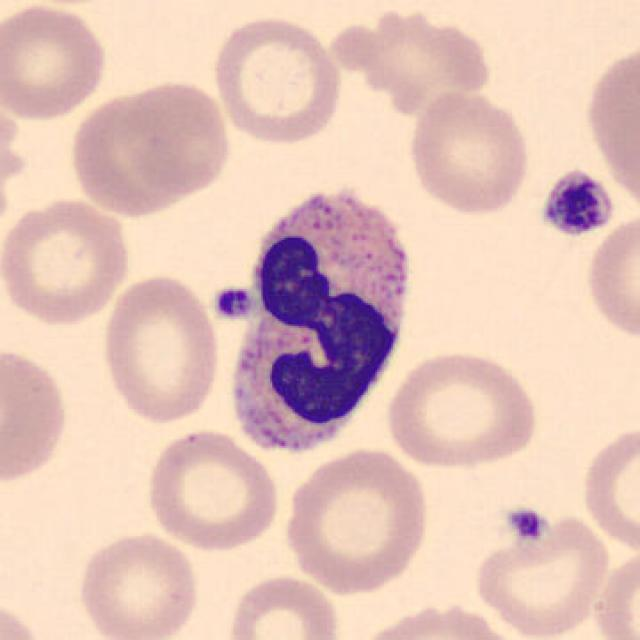Neutrophil: (212, 171, 423, 473)
Platelets: (535, 166, 619, 240), (503, 504, 549, 543), (210, 284, 254, 323)
RBC: (279, 444, 434, 596), (469, 504, 614, 640), (382, 346, 540, 470), (98, 269, 222, 426), (330, 0, 496, 116), (208, 12, 345, 146), (142, 426, 283, 554), (0, 194, 135, 326), (404, 86, 534, 218), (108, 78, 233, 204), (73, 527, 203, 640), (0, 0, 110, 123), (0, 340, 73, 490), (582, 35, 638, 224), (578, 420, 640, 559), (222, 571, 345, 640), (582, 208, 638, 347), (354, 599, 524, 640), (590, 546, 640, 640), (0, 594, 48, 640)
